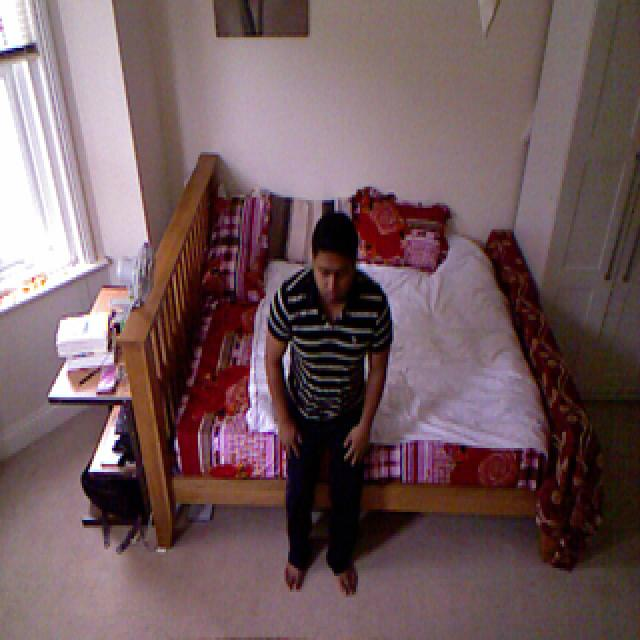standing: (265, 202, 394, 603)
